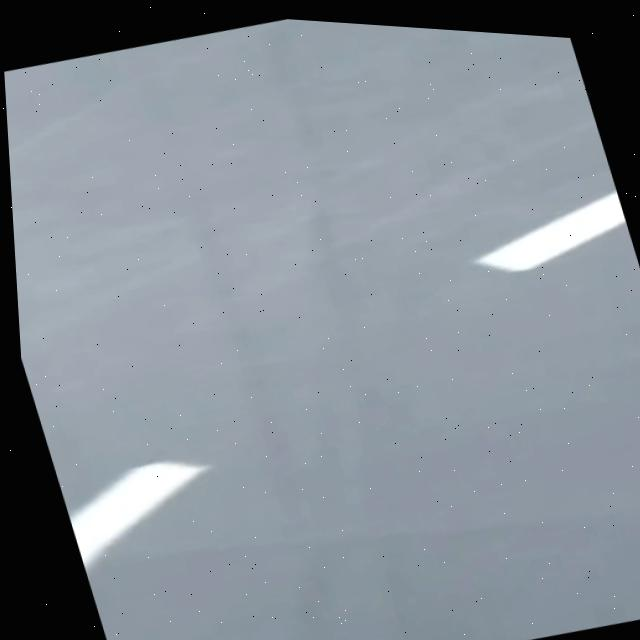center: (69, 461, 208, 569), (475, 190, 626, 271)
